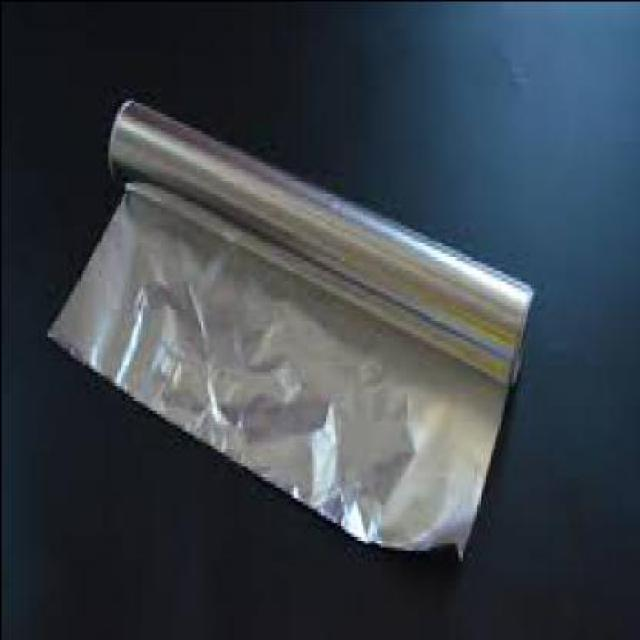METAL: (47, 95, 536, 556)
